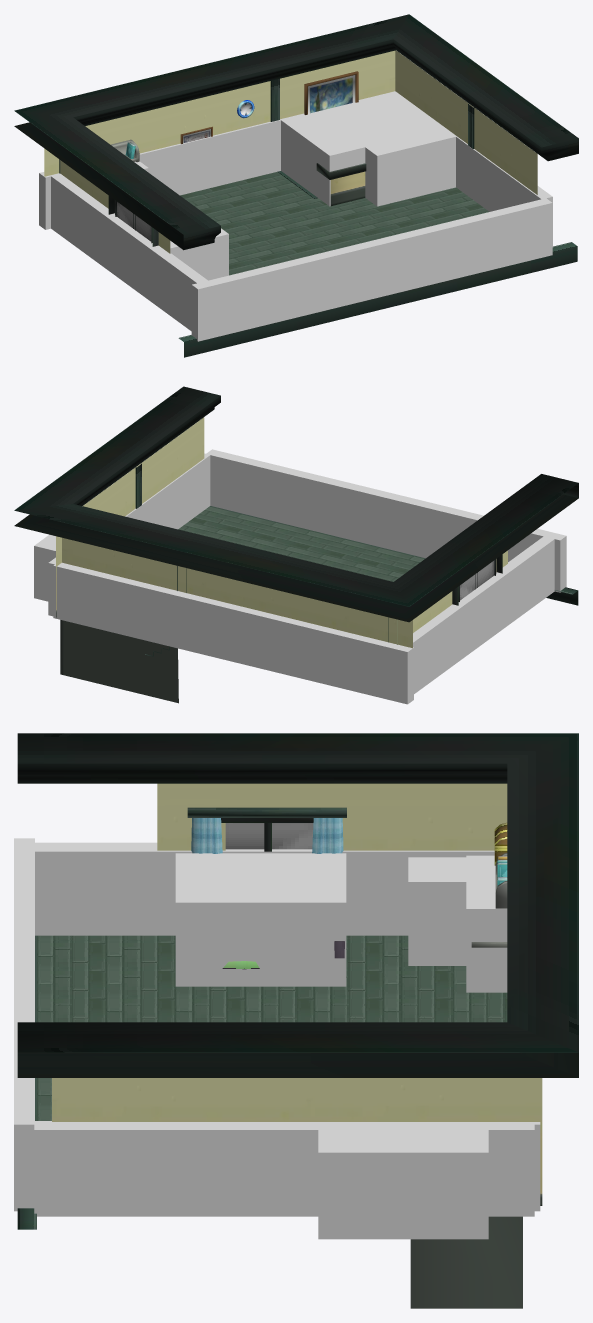
File: Room.opt.glb
3 views of the same model, one above another, from view 1: azimuth 30°, elevation 25°; view 2: azimuth 150°, elevation 25°; view 3: azimuth 270°, elevation 25° (orthographic). The views are drawn at different scales.
Parts seen in each view (by area): view 1: Brendans_Room, COLL_Wall4, COLL_Wall2, COLL_Wall6, COLL_Wall5, COLL_Wall3, COLL_Wall1, COLL_Wall7; view 2: Brendans_Room, COLL_Wall3, COLL_Wall4, COLL_Wall2, COLL_Wall1, COLL_Wall6; view 3: Brendans_Room, COLL_Wall1, COLL_Wall7, COLL_Wall2, COLL_Wall6, COLL_Wall4, COLL_Wall9, COLL_Wall8.
Part boxes in pixels (x1,y1,x2,y2): Brendans_Room: (14,14,578,357); COLL_Wall4: (191,198,552,341); COLL_Wall2: (51,173,207,331); COLL_Wall6: (326,99,455,206); COLL_Wall5: (280,91,442,206); COLL_Wall3: (39,91,394,229); COLL_Wall1: (394,91,552,246); COLL_Wall7: (170,228,228,280); Brendans_Room: (14,386,578,703); COLL_Wall3: (53,562,413,704); COLL_Wall4: (206,449,566,592); COLL_Wall2: (393,536,554,693); COLL_Wall1: (48,453,210,616); COLL_Wall6: (34,534,55,601); Brendans_Room: (17,733,578,1308); COLL_Wall1: (34,1121,534,1216); COLL_Wall7: (175,853,346,986); COLL_Wall2: (34,842,494,935); COLL_Wall6: (318,1124,488,1239); COLL_Wall4: (14,838,34,1211); COLL_Wall9: (408,857,466,965); COLL_Wall8: (466,855,507,992).
Size of the model in its own units: 26.98 by 10.83 by 19.81.
Materials: 18 (18 with a texture image).
